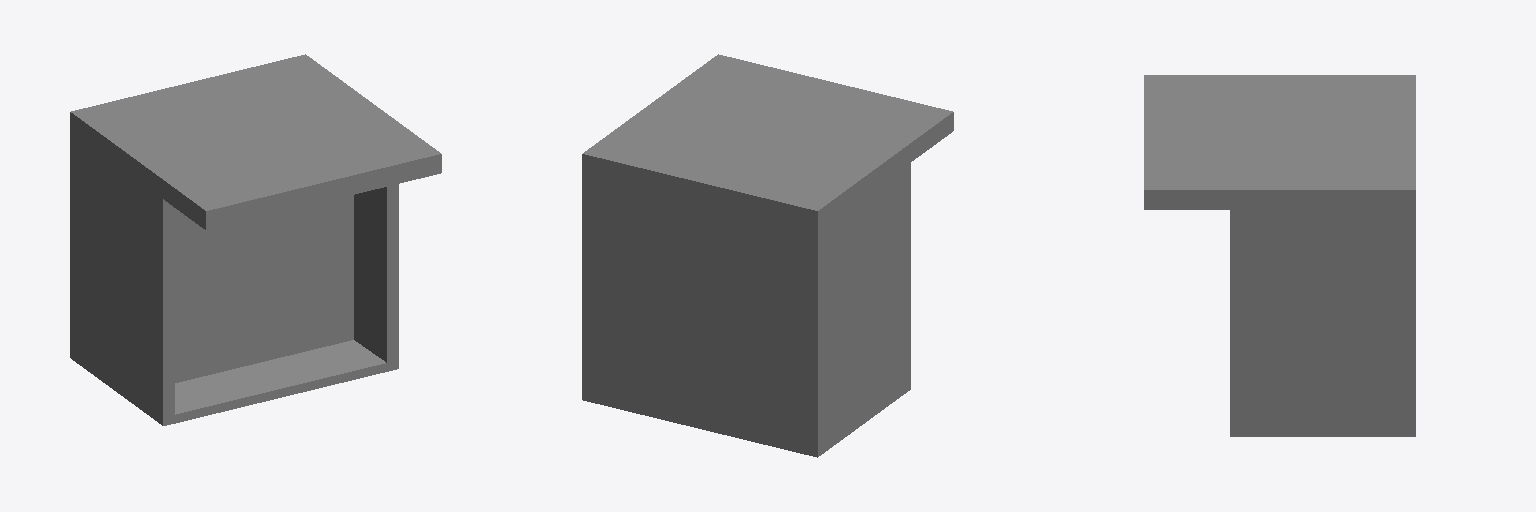
File: window_roof.obj
3 views of the same model, side by side, from view 1: azimuth 30°, elevation 25°; view 2: azimuth 150°, elevation 25°; view 3: azimuth 270°, elevation 25° (orthographic).
Parts seen in each view (by area): view 1: Box023; view 2: Box023; view 3: Box023.
Boxes of the visible parts, x1=… form: Box023: x1=70, y1=54, x2=441, y2=425; Box023: x1=582, y1=54, x2=953, y2=457; Box023: x1=1144, y1=75, x2=1415, y2=436.
Bounding box in the file's own units: 12.81 × 12.81 × 12.81.